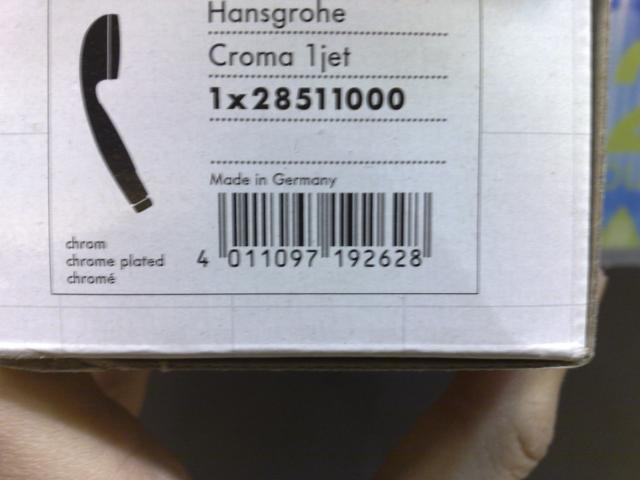Barcode: (188, 185, 438, 280)
